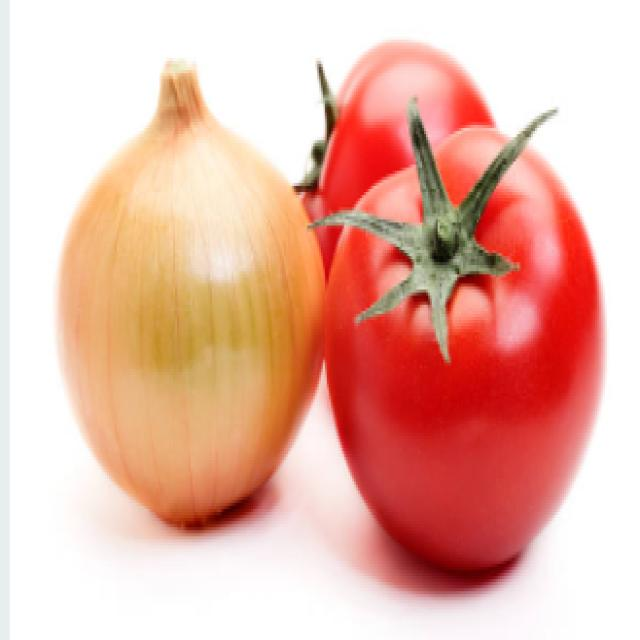Tomato: (327, 151, 604, 594)
